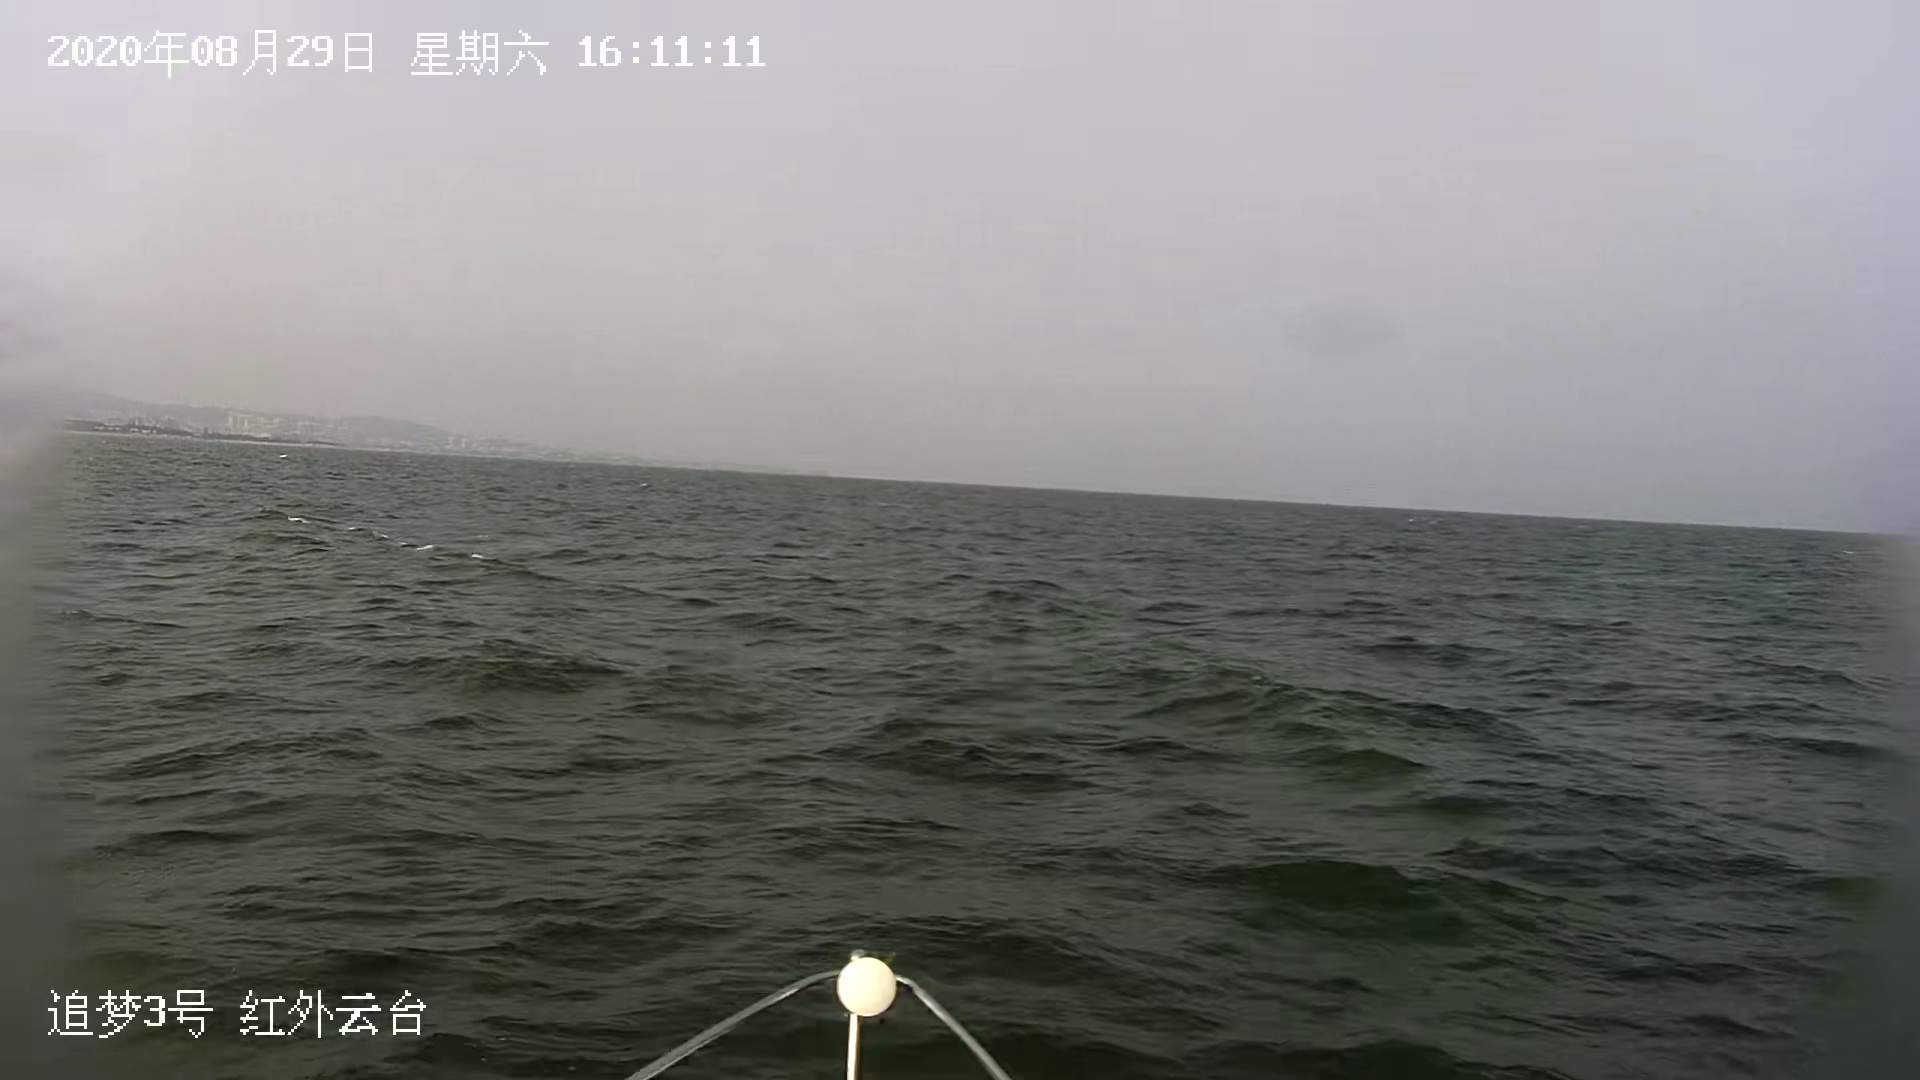coast: (8, 385, 695, 469)
